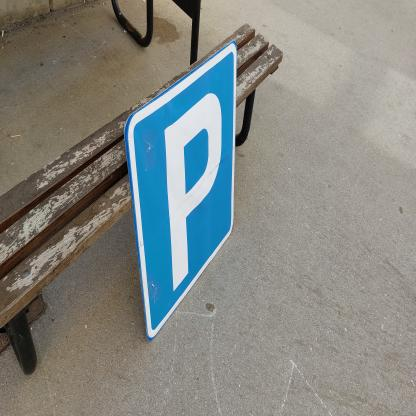Parking-Sign: (127, 43, 239, 339)
